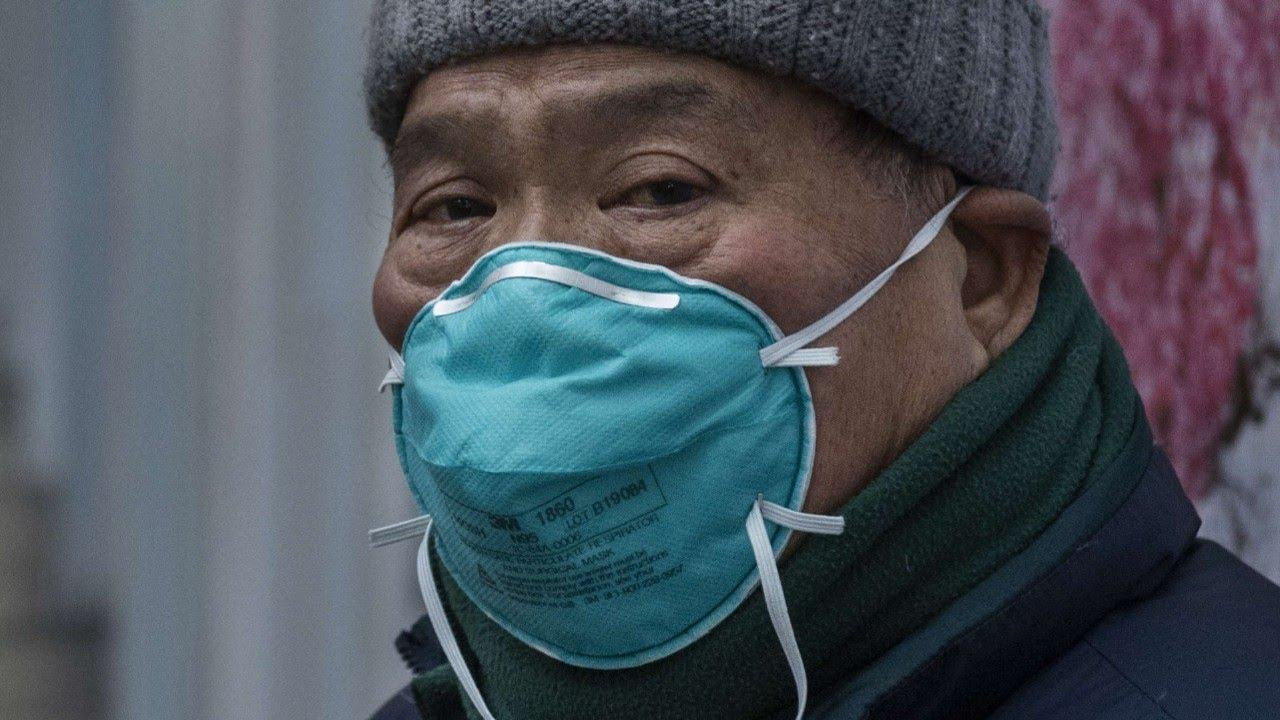mask: (377, 60, 941, 588)
